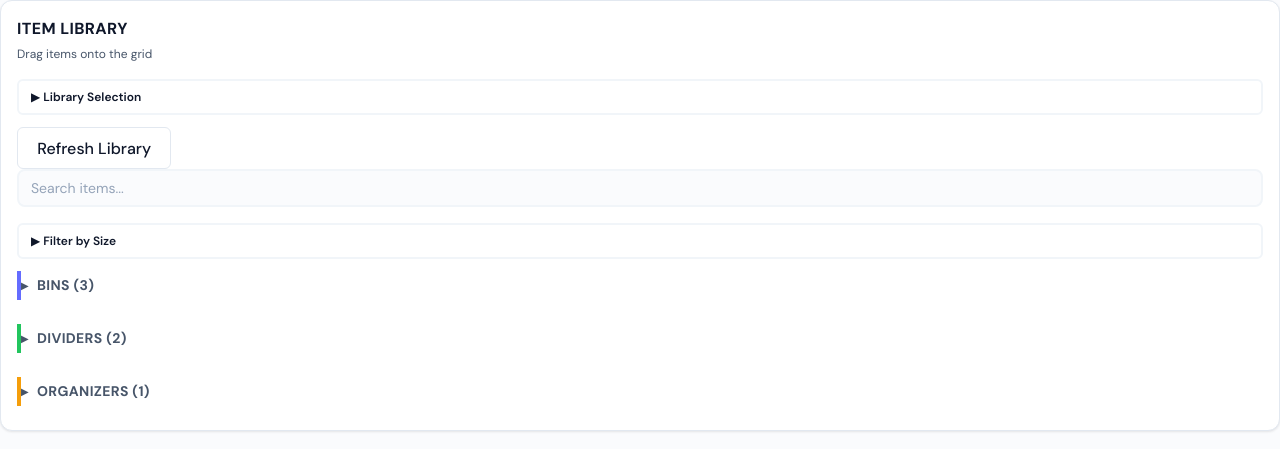
it: ItemLibrary › Category Grouping › should correctly group filtered items by category
Type "Combo" into the field with placeholder "Search items..." at {"x": 640, "y": 188}, box [17, 169, 1263, 207]
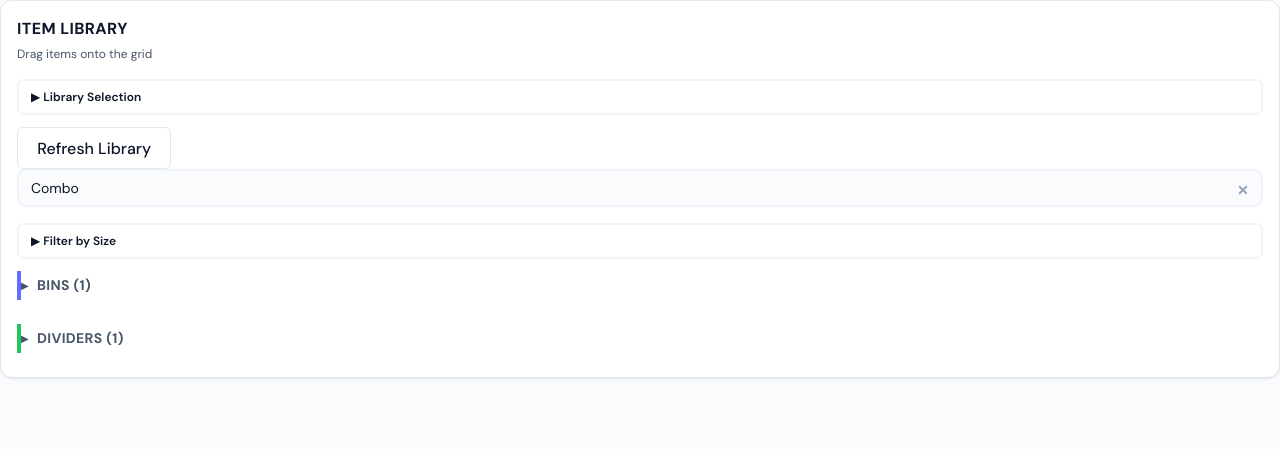
Now the button "▶ Bins (1)" is shown, box [17, 271, 1263, 300]
Now the button "▶ Dividers (1)" is shown, box [17, 324, 1263, 353]
Now the button "Organizers" is gone
